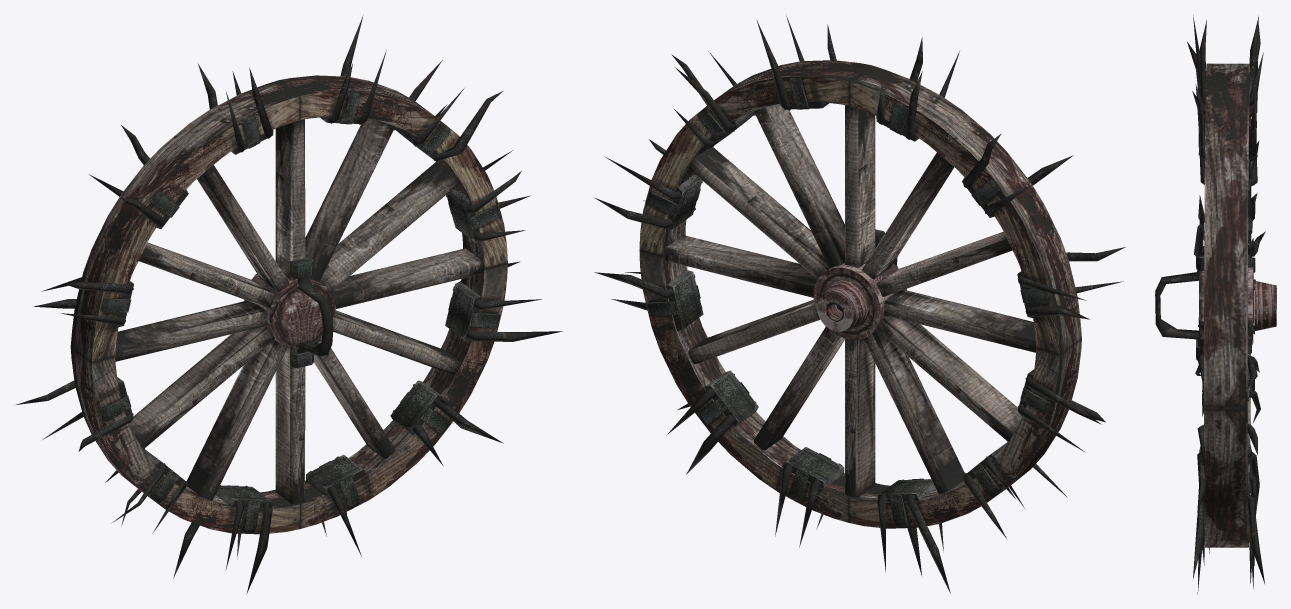
The model's file is Bonewheel Shield.obj.
3 views of the same model, side by side, from view 1: azimuth 30°, elevation 25°; view 2: azimuth 150°, elevation 25°; view 3: azimuth 270°, elevation 25° (orthographic).
Visible parts, largest first — view 1: Model001_0_Mesh1_1_0_0, Model001_0_Mesh2_1_0_0; view 2: Model001_0_Mesh1_1_0_0, Model001_0_Mesh2_1_0_0; view 3: Model001_0_Mesh1_1_0_0, Model001_0_Mesh2_1_0_0.
Part boxes in pixels (left/top/right/bottom): Model001_0_Mesh1_1_0_0: left=70, top=75, right=507, bottom=534; Model001_0_Mesh2_1_0_0: left=16, top=15, right=562, bottom=593; Model001_0_Mesh1_1_0_0: left=639, top=60, right=1081, bottom=528; Model001_0_Mesh2_1_0_0: left=594, top=16, right=1125, bottom=593; Model001_0_Mesh1_1_0_0: left=1196, top=63, right=1276, bottom=547; Model001_0_Mesh2_1_0_0: left=1155, top=15, right=1265, bottom=594.
Size of the model in its own units: 1.58 by 1.55 by 0.3171.
